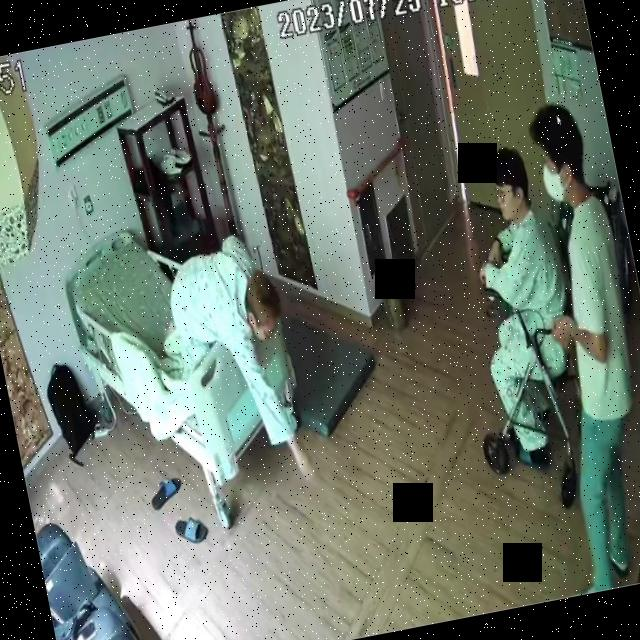danger: (160, 234, 320, 518)
patient: (160, 233, 320, 518)
